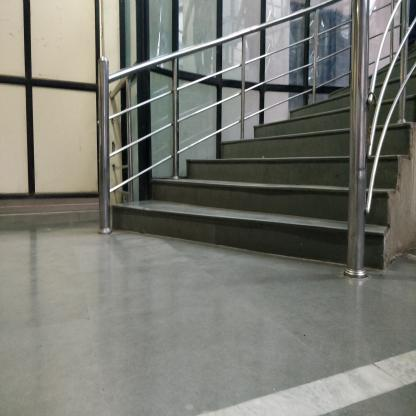stairs: (185, 159, 347, 265)
